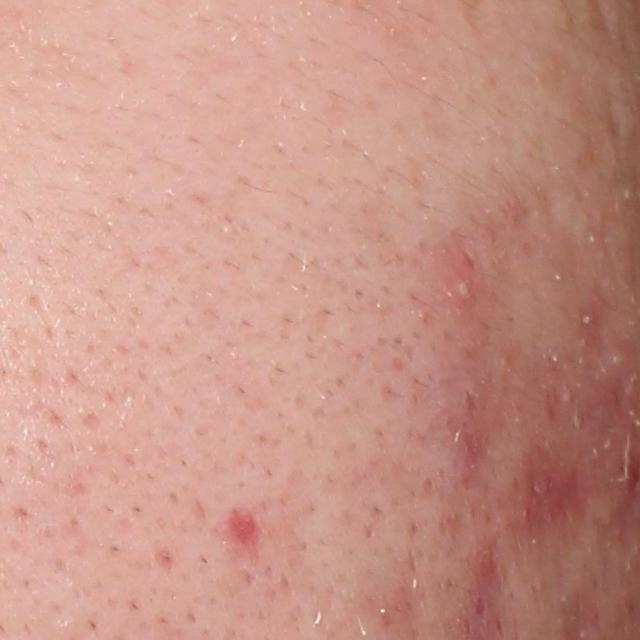pustule: (452, 275, 487, 310)
